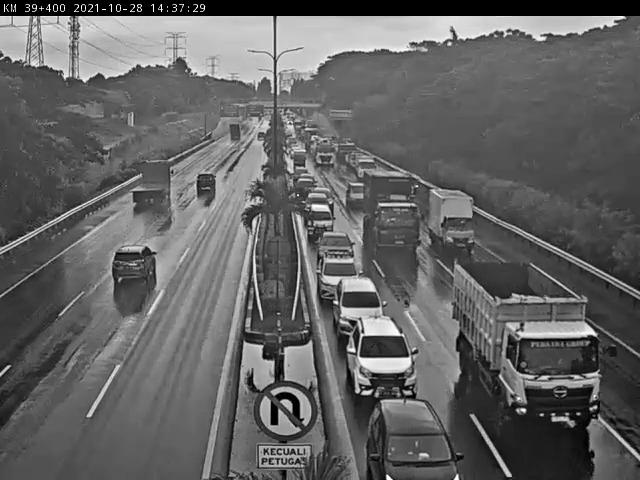big truck: (445, 255, 619, 432), (361, 169, 422, 256), (132, 161, 173, 212)
car: (365, 399, 465, 480), (346, 317, 412, 396), (333, 275, 384, 339), (318, 257, 364, 304), (112, 245, 157, 288), (317, 234, 355, 269), (304, 203, 333, 239), (193, 171, 219, 193)
small truck: (427, 187, 477, 253)
